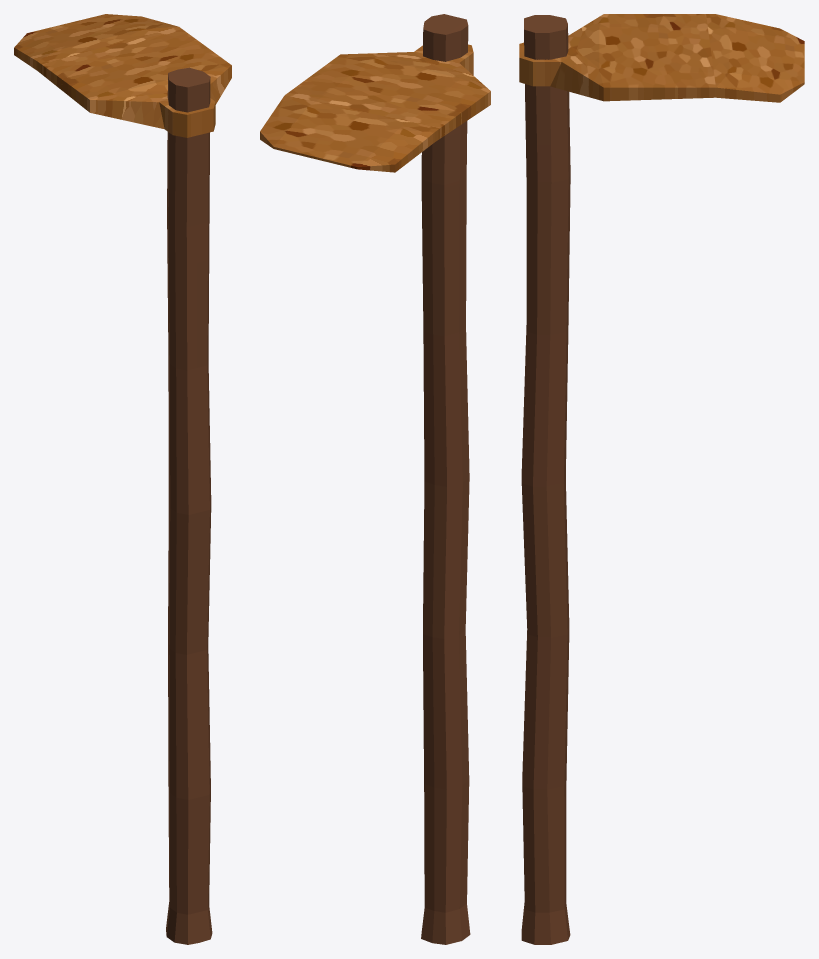
Rendered from hoe_rusty.glb.
3 renders of one model, left to right at view 1: azimuth 30°, elevation 25°; view 2: azimuth 150°, elevation 25°; view 3: azimuth 270°, elevation 25°, orthographic. The views are drawn at different scales.
Parts seen in each view (by area): view 1: HoeV12; view 2: HoeV12; view 3: HoeV12.
Part boxes in pixels (x1,y1,x2,y2): HoeV12: (14,14,231,944); HoeV12: (260,14,490,944); HoeV12: (519,14,804,944).
Bounding box in the file's own units: 0.1634 × 0.9453 × 0.2675.
2 materials, 2 textured.
